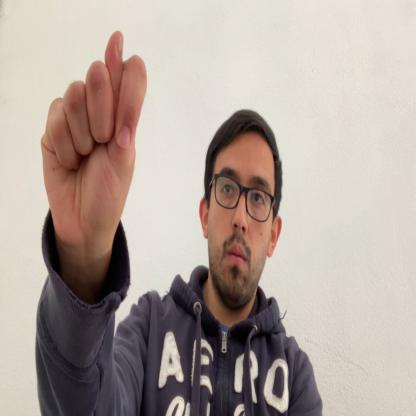T: (40, 27, 147, 272)
